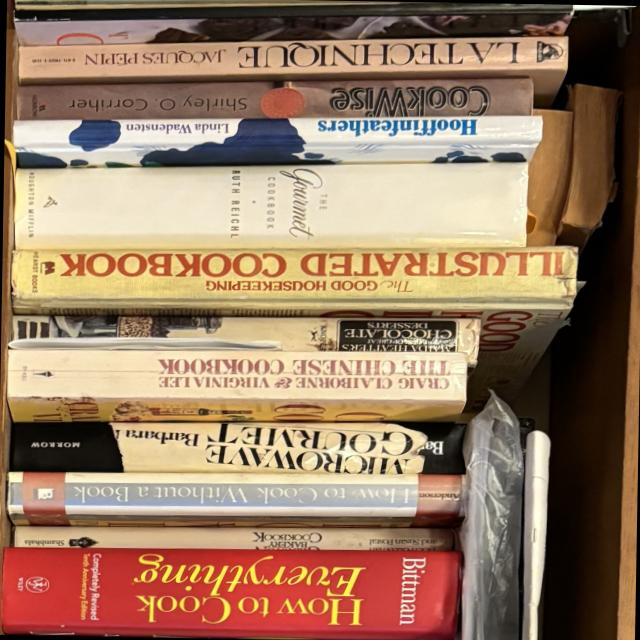book: (12, 245, 576, 410), (14, 162, 527, 251), (16, 28, 567, 107), (1, 546, 460, 640), (6, 349, 465, 423), (12, 113, 541, 169), (8, 470, 459, 528), (14, 0, 571, 46), (54, 310, 480, 367), (10, 421, 464, 474), (16, 77, 531, 122), (12, 525, 455, 551)
